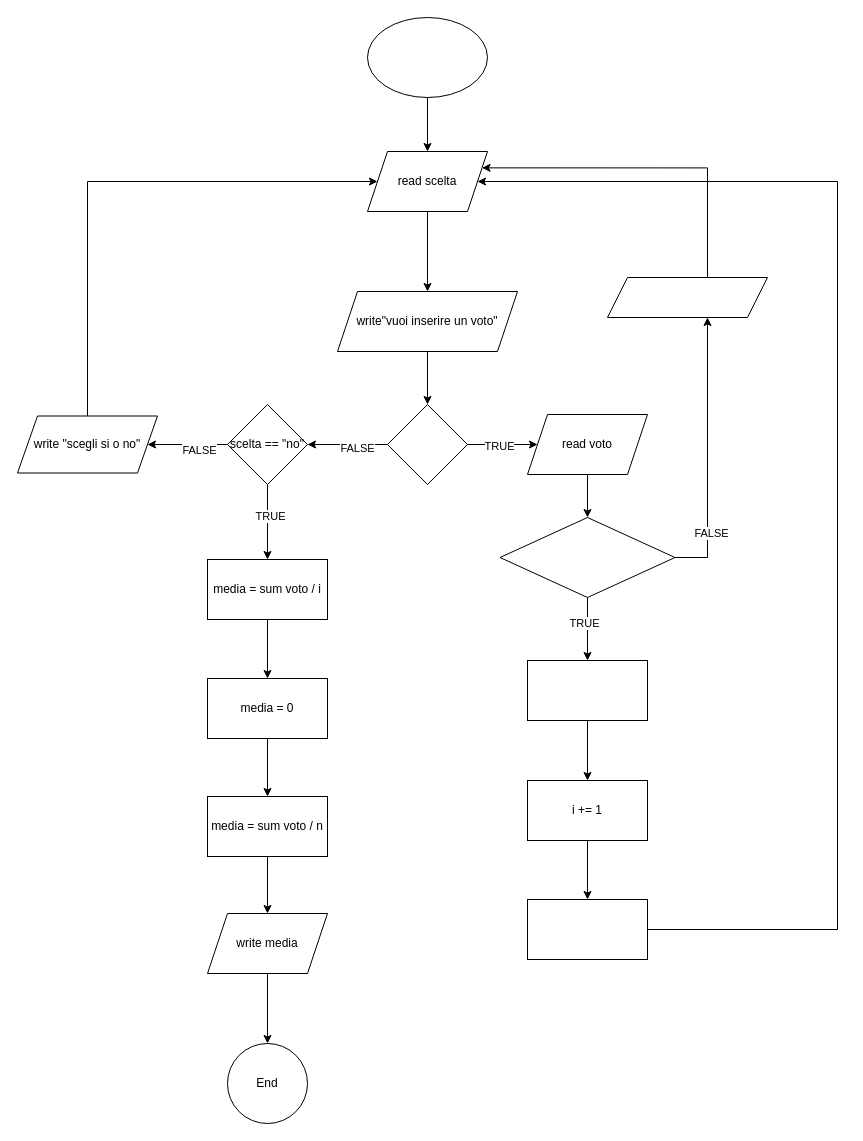
Image size: 863x1141. Some labels were removed from this diagram. The box of each missing label's shape, as (x1, y1, x2, y2) in pixels:
i = 0: (526, 660, 648, 720)
scelta == "si": (386, 404, 468, 484)
Start: (366, 16, 488, 98)
sum = sum + voto: (526, 898, 648, 960)
voto > 0 AND voto % 2 == 0: (499, 516, 675, 598)
write "inserire numero positivo": (606, 276, 768, 318)
